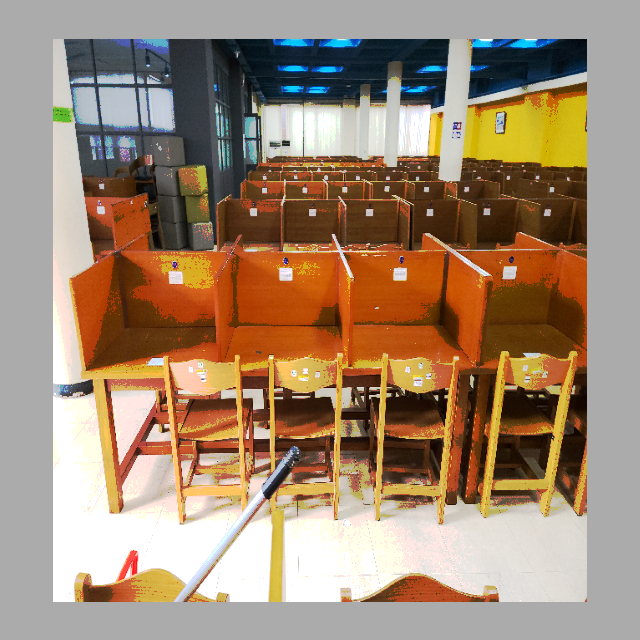empty: (76, 246, 217, 440), (221, 247, 354, 436), (359, 249, 486, 441)
